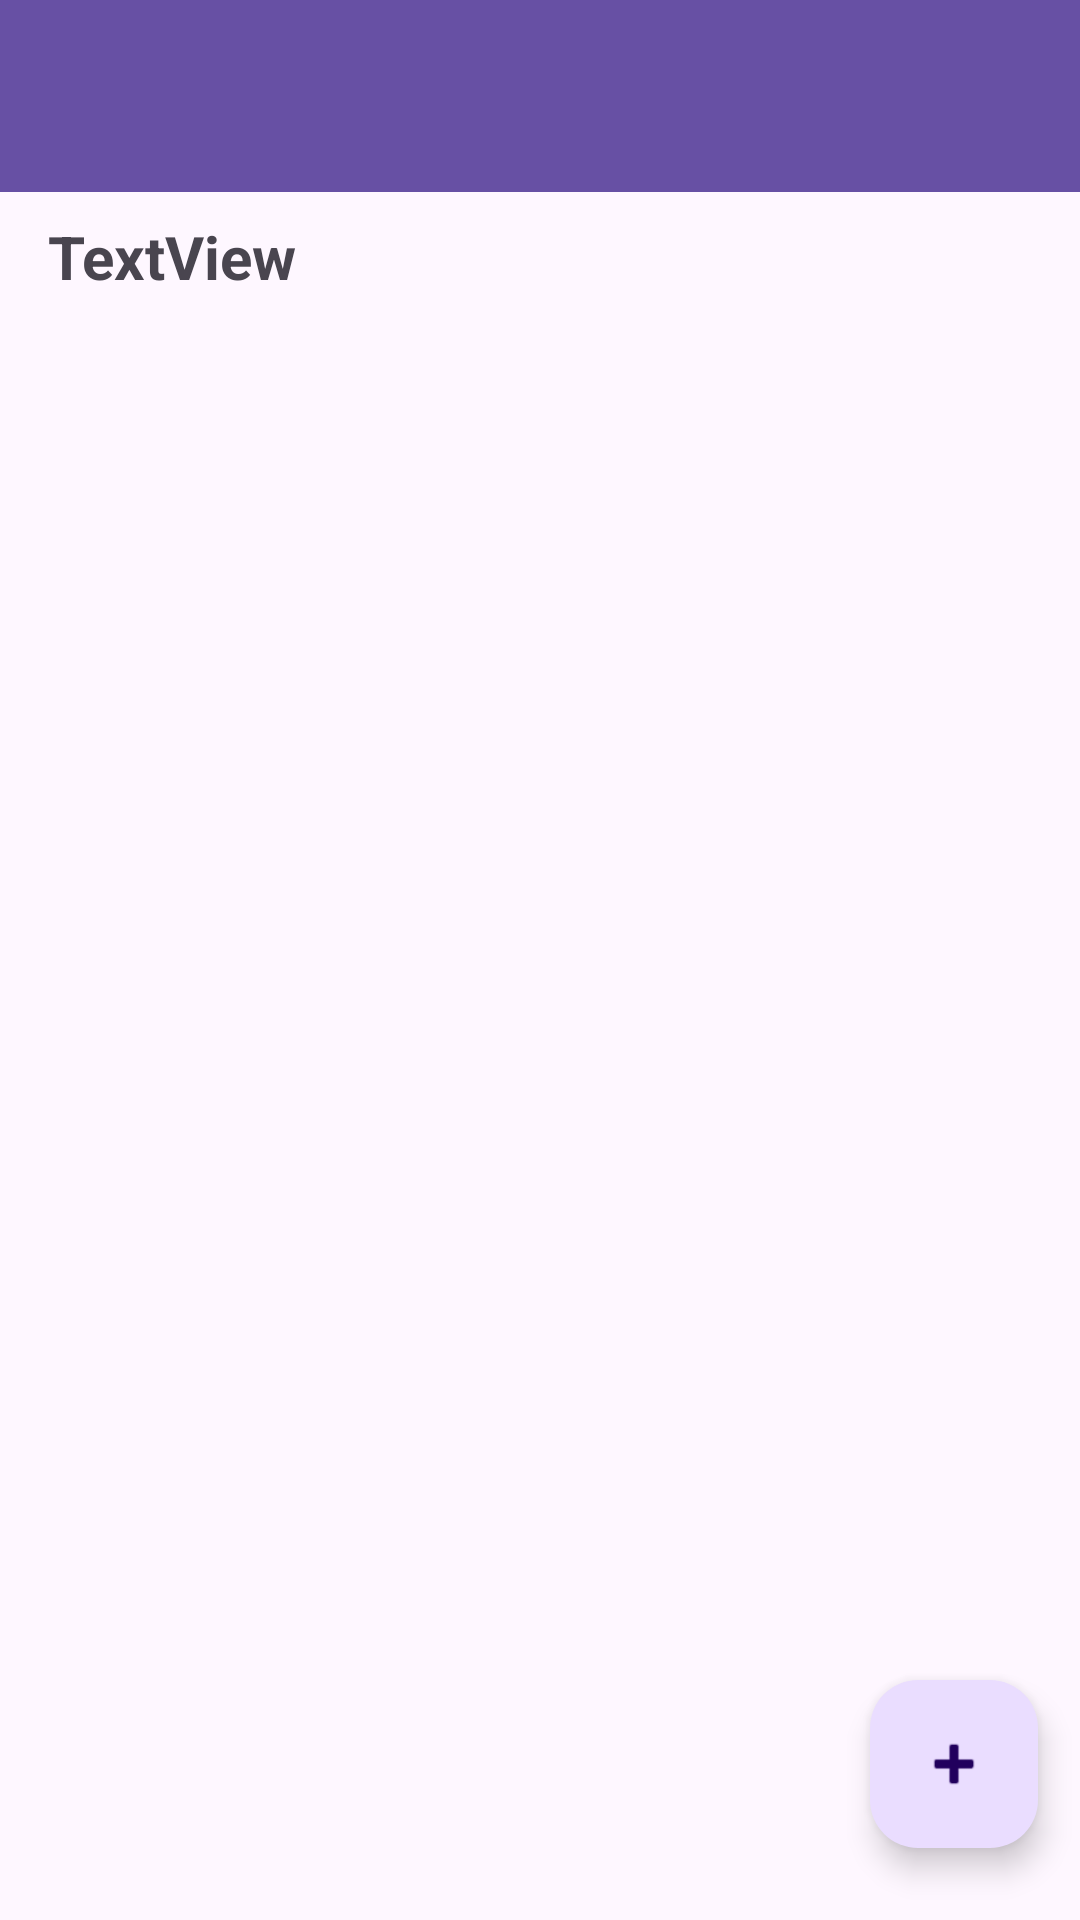

Where to tap for icons on this 1080px×1920px app screen, as (x,y):
add: (954,1764)
